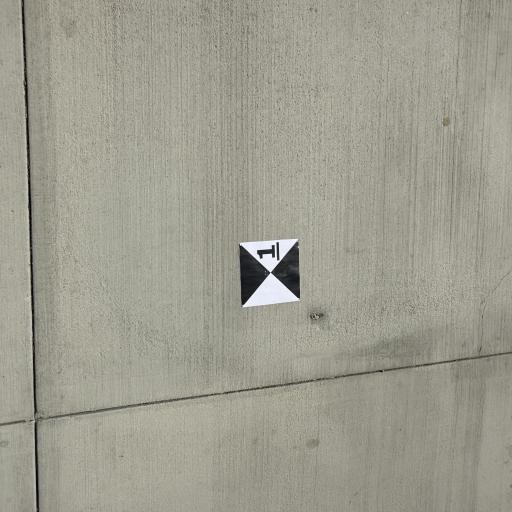target1: (237, 236, 307, 312)
